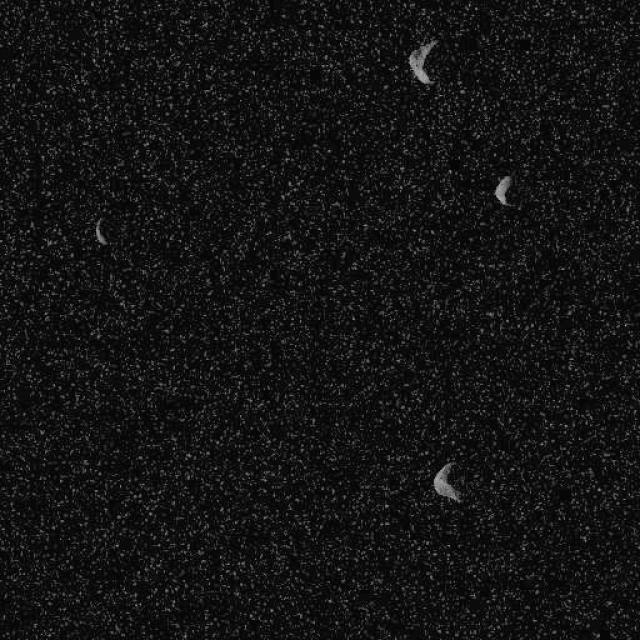D2: (406, 36, 439, 85), (431, 460, 464, 502), (492, 174, 512, 206), (94, 217, 108, 245)
